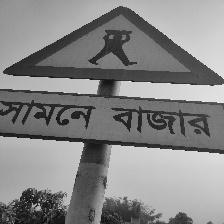Market-in-front: (2, 5, 223, 153)
